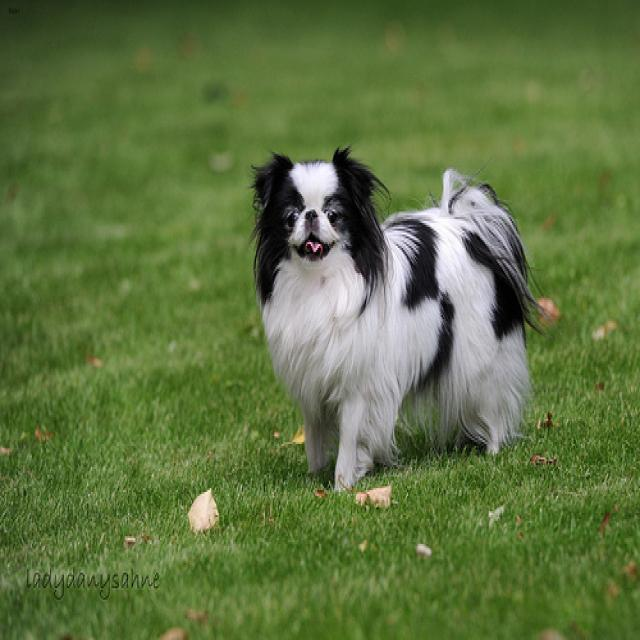dog-japanese_chin: (243, 136, 548, 504)
